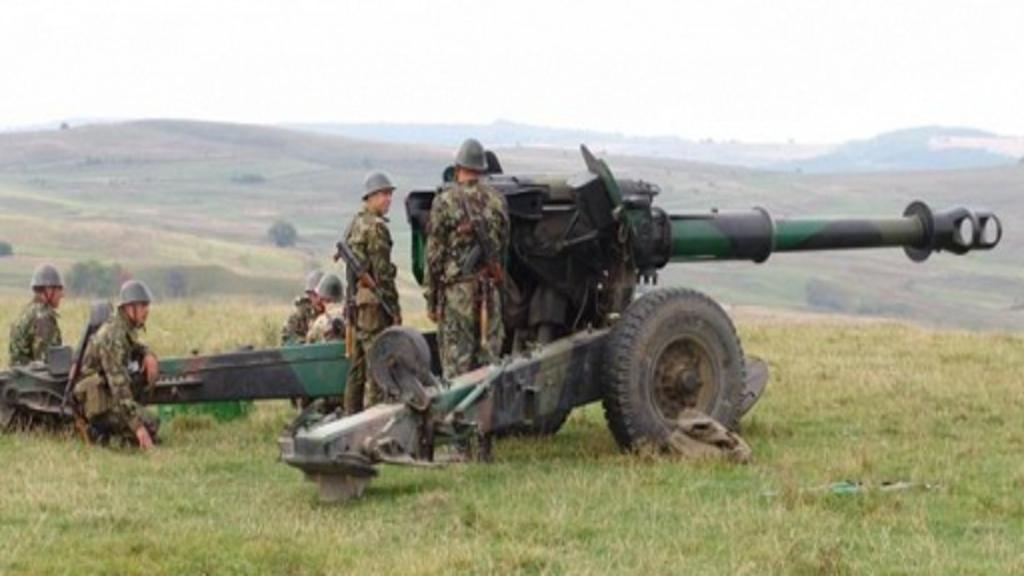ART: (0, 147, 1004, 486)
